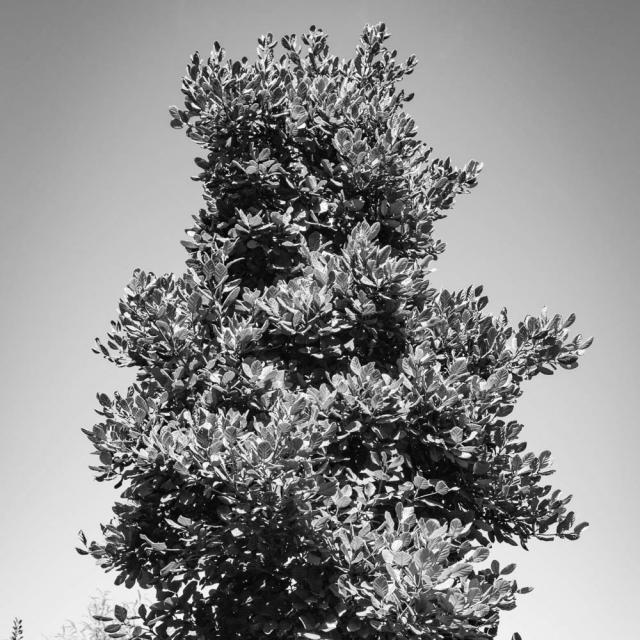Taraire: (69, 19, 593, 639)
